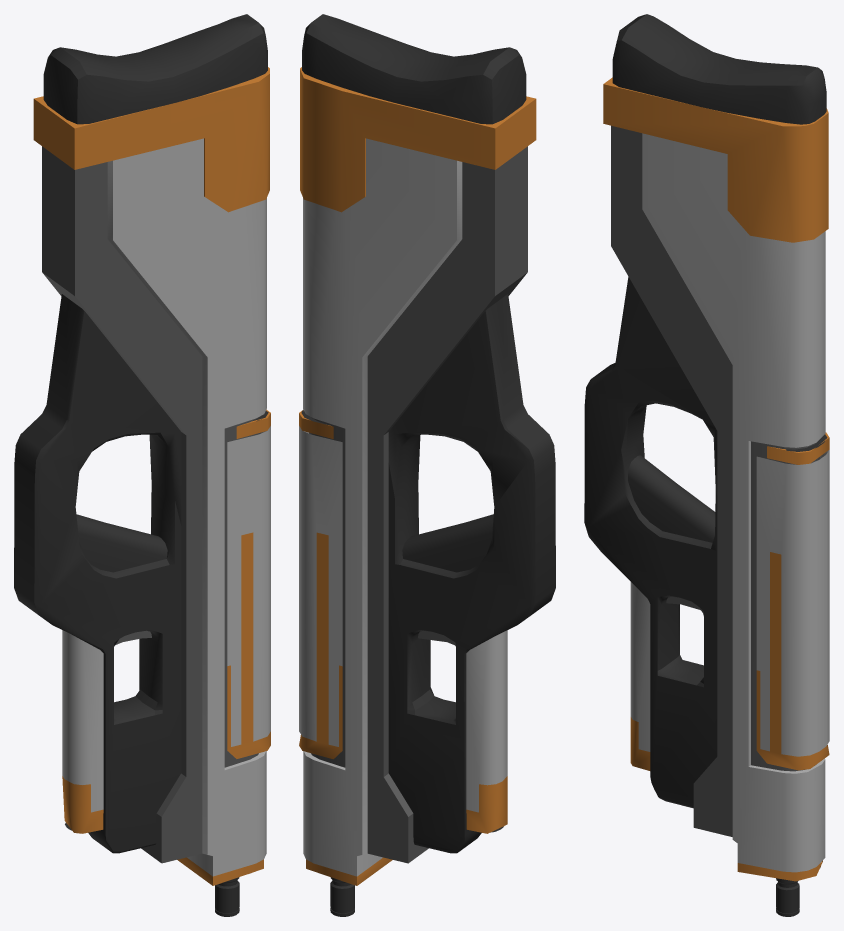
3 views of the same model, side by side, from view 1: azimuth 30°, elevation 25°; view 2: azimuth 150°, elevation 25°; view 3: azimuth 330°, elevation 25° (orthographic). The views are drawn at different scales.
Parts seen in each view (by area): view 1: WeaponMesh_qg-ar-6_AR_6; view 2: WeaponMesh_qg-ar-6_AR_6; view 3: WeaponMesh_qg-ar-6_AR_6.
Part boxes in pixels (<box>): WeaponMesh_qg-ar-6_AR_6: <box>14,14,270,916</box>; WeaponMesh_qg-ar-6_AR_6: <box>299,14,555,916</box>; WeaponMesh_qg-ar-6_AR_6: <box>584,14,829,916</box>.
Size of the model in its own units: 0.3496 by 1.25 by 0.1032.
